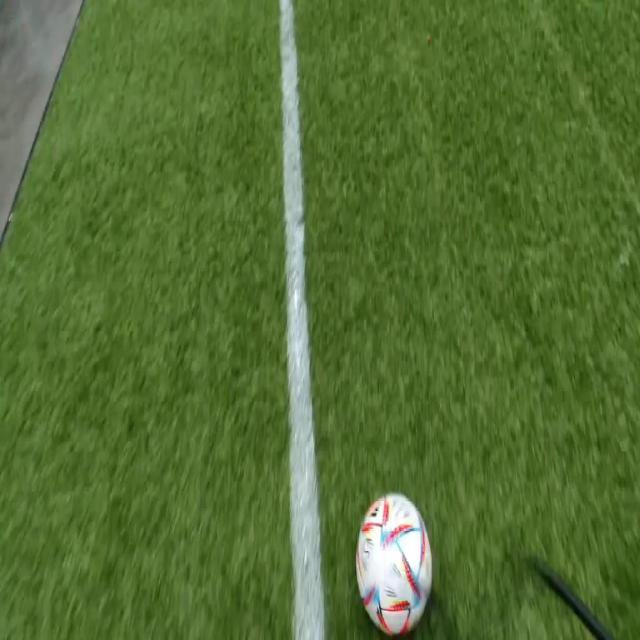ball: (356, 494, 431, 636)
